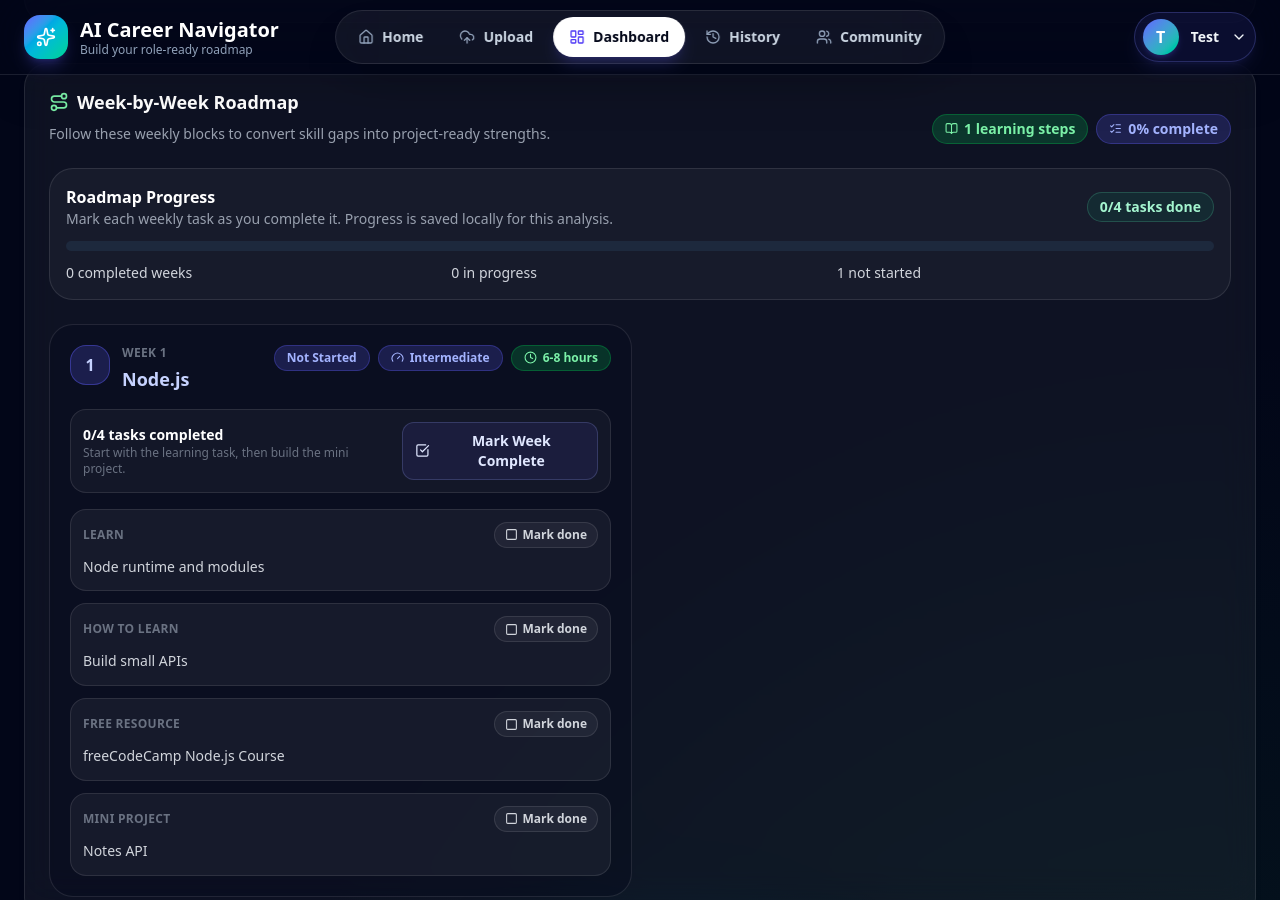
Test: Dashboard Page › updates dashboard progress widgets when a roadmap week is completed
(page scrolled)
Click the button "Mark Week Complete" at (500,450), box [402,422,598,480]
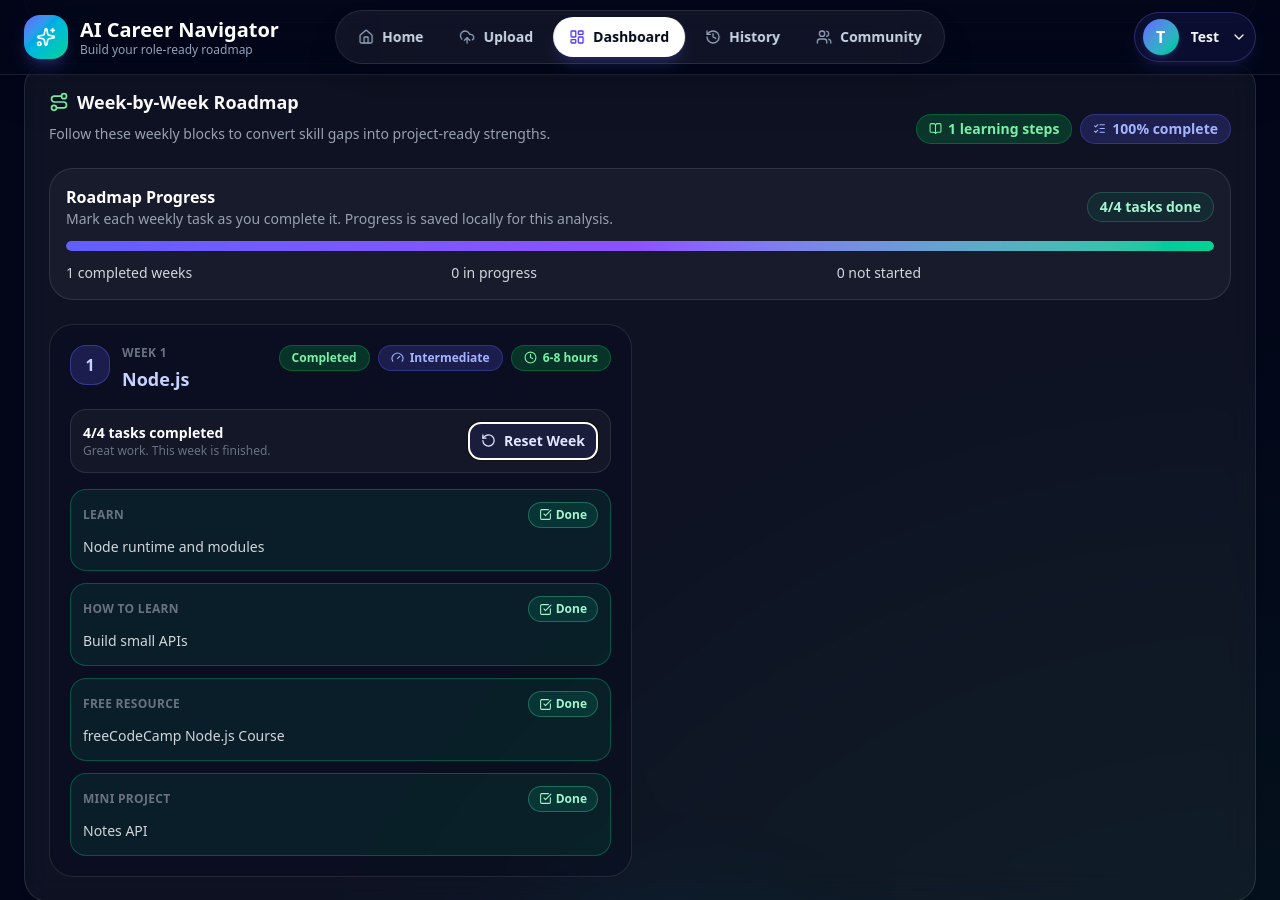
Now the text "4/4 tasks done" is shown, box [1087,192,1214,222]
Now the button "Reset Week" is shown, box [468,422,598,460]
